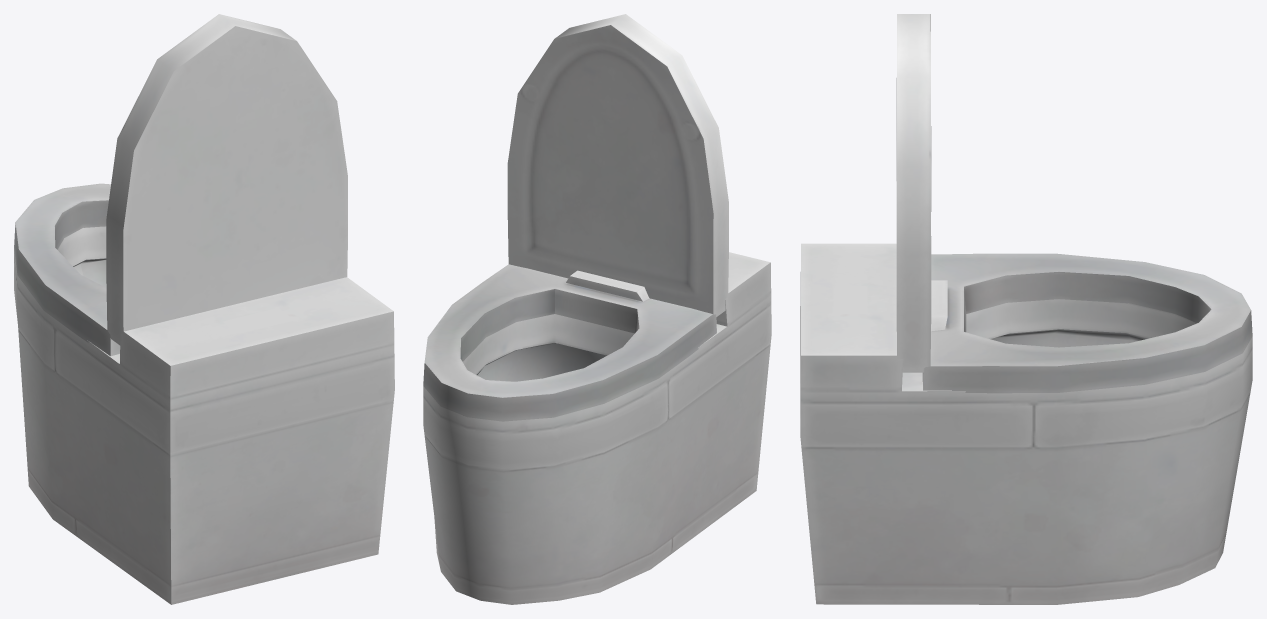
File: Pfb_Indoors_WC.fbx
The picture shows the model from 3 angles, left to right: view 1: azimuth 30°, elevation 25°; view 2: azimuth 150°, elevation 25°; view 3: azimuth 270°, elevation 25°; orthographic projection. The views are drawn at different scales.
Visible parts, largest first — view 1: Mat_Indoors_WC_01; view 2: Mat_Indoors_WC_01; view 3: Mat_Indoors_WC_01.
Boxes of the visible parts, bbox=[...] form: Mat_Indoors_WC_01: bbox=[14, 14, 394, 604]; Mat_Indoors_WC_01: bbox=[423, 14, 771, 604]; Mat_Indoors_WC_01: bbox=[800, 14, 1252, 604].
Size of the model in its own units: 0.6417 by 1.41 by 1.08.
Materials: 1 (1 with a texture image).
